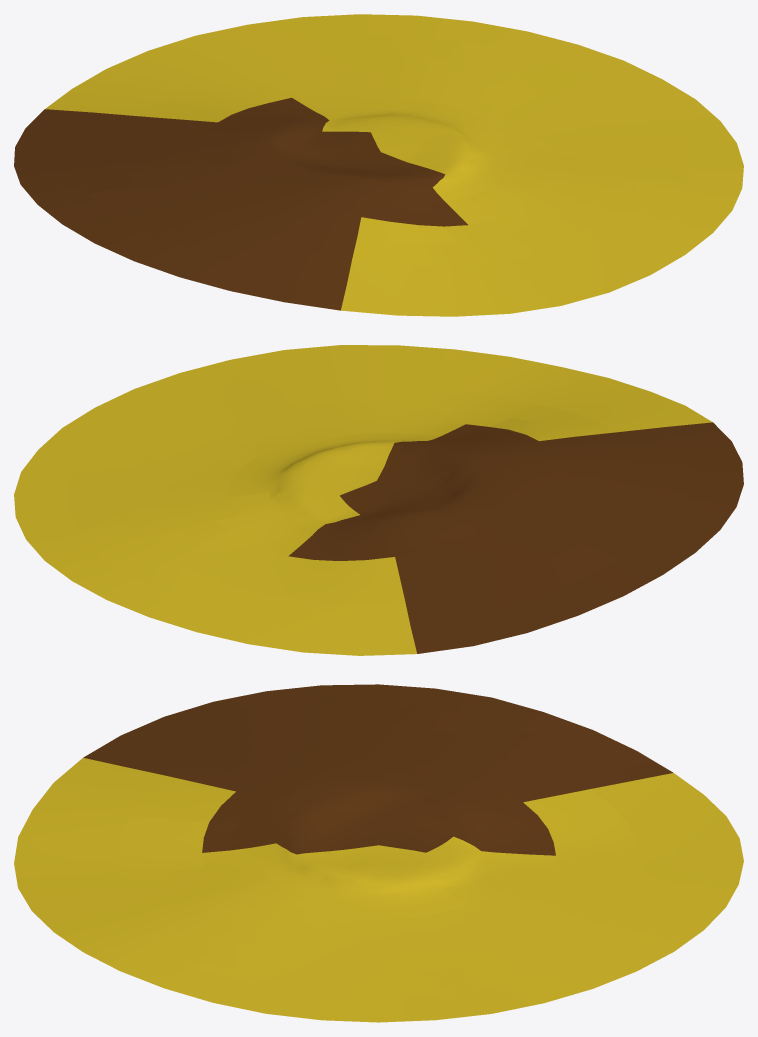
Rendered from NovoContinente.fbx.
The picture shows the model from 3 angles, top to bottom: view 1: azimuth 30°, elevation 25°; view 2: azimuth 150°, elevation 25°; view 3: azimuth 270°, elevation 25°; orthographic projection.
Visible parts, largest first — view 1: Continente.001, Continente.004, Continente.002, Continente.003, Continente.007, Continente.005, Continente.008, Continente.006, Continente; view 2: Continente.001, Continente.004, Continente.003, Continente.002, Continente.007, Continente.008, Continente.005, Continente, Continente.006; view 3: Continente.001, Continente.004, Continente.003, Continente.002, Continente.007, Continente.008, Continente.005, Continente, Continente.006.
Boxes of the visible parts, <box> form: Continente.001: <box>14,14,743,316</box>; Continente.004: <box>369,41,690,266</box>; Continente.002: <box>88,158,434,276</box>; Continente.003: <box>67,35,459,194</box>; Continente.007: <box>209,72,440,169</box>; Continente.005: <box>411,150,595,244</box>; Continente.008: <box>393,104,553,201</box>; Continente.006: <box>229,140,444,212</box>; Continente: <box>329,121,439,194</box>; Continente.001: <box>14,345,743,655</box>; Continente.004: <box>67,378,571,541</box>; Continente.003: <box>77,511,620,626</box>; Continente.002: <box>485,412,689,558</box>; Continente.007: <box>197,477,458,560</box>; Continente.008: <box>228,433,439,498</box>; Continente.005: <box>259,401,537,445</box>; Continente: <box>305,439,464,498</box>; Continente.006: <box>429,434,504,526</box>; Continente.001: <box>14,684,743,1022</box>; Continente.004: <box>118,816,598,997</box>; Continente.003: <box>407,709,674,953</box>; Continente.002: <box>130,705,459,822</box>; Continente.007: <box>349,781,582,905</box>; Continente.008: <box>250,843,466,932</box>; Continente.005: <box>166,819,332,939</box>; Continente: <box>265,803,436,868</box>; Continente.006: <box>233,770,450,847</box>.
Size of the model in its own units: 59642 by 3416 by 59638.
